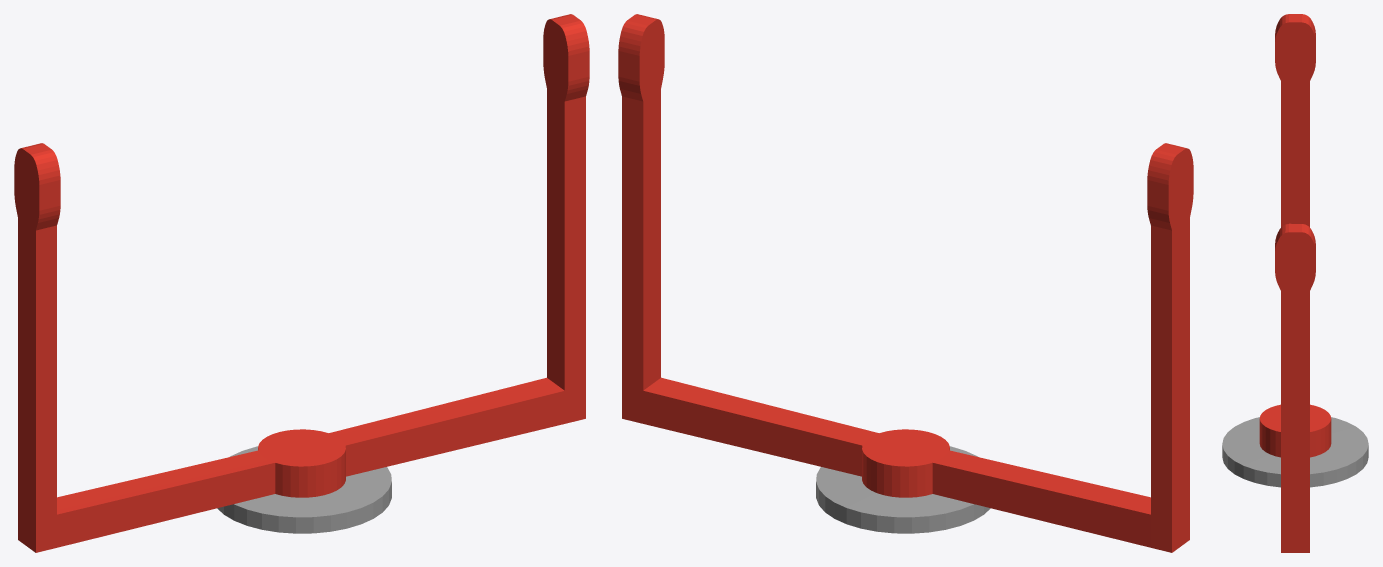
Rendered from shaker_anker.glb.
The picture shows the model from 3 angles, left to right: view 1: azimuth 30°, elevation 25°; view 2: azimuth 150°, elevation 25°; view 3: azimuth 270°, elevation 25°; orthographic projection. The views are drawn at different scales.
Visible parts, largest first — view 1: gondelhalter.001; view 2: gondelhalter.001; view 3: gondelhalter.001.
Part boxes in pixels (x1=…): gondelhalter.001: x1=14, y1=14, x2=589, y2=552; gondelhalter.001: x1=618, y1=14, x2=1193, y2=552; gondelhalter.001: x1=1222, y1=14, x2=1368, y2=552.
Size of the model in its own units: 3.01 by 2.15 by 0.8545.
